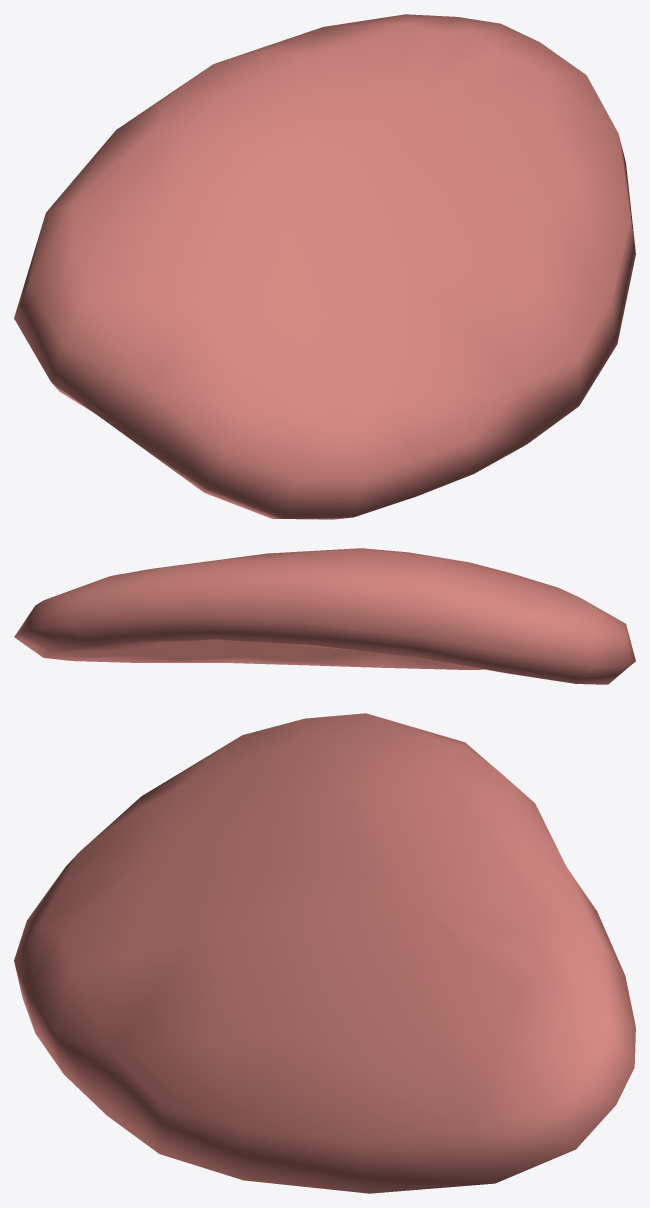
The picture shows the model from 3 angles, top to bottom: view 1: azimuth 30°, elevation 25°; view 2: azimuth 150°, elevation 25°; view 3: azimuth 270°, elevation 25°; orthographic projection. The views are drawn at different scales.
Visible parts, largest first — view 1: ZA_ceec6911cd10d89e; view 2: ZA_ceec6911cd10d89e; view 3: ZA_ceec6911cd10d89e.
Boxes of the visible parts, <box> form: ZA_ceec6911cd10d89e: <box>14,14,635,519</box>; ZA_ceec6911cd10d89e: <box>14,548,635,684</box>; ZA_ceec6911cd10d89e: <box>14,713,635,1193</box>.
Size of the model in its own units: 0.0036 by 0.00138 by 0.00267.
